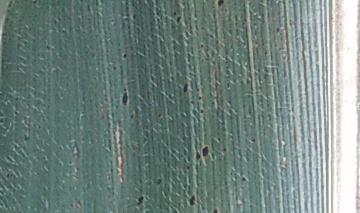tarspot: (188, 99, 198, 116), (201, 145, 210, 158), (187, 195, 196, 206), (182, 82, 189, 94), (122, 92, 128, 106), (51, 17, 60, 26), (136, 195, 144, 205), (194, 150, 201, 161), (175, 15, 182, 25), (225, 80, 231, 90), (155, 178, 162, 186), (45, 43, 51, 52), (131, 12, 137, 21), (60, 28, 67, 35), (249, 138, 257, 144), (216, 1, 224, 7), (275, 25, 280, 34), (240, 176, 247, 182), (111, 65, 117, 72), (129, 113, 134, 121), (122, 86, 128, 92), (211, 208, 218, 213), (199, 108, 204, 115), (185, 164, 190, 171), (157, 111, 162, 118), (31, 1, 39, 5), (122, 53, 127, 59), (222, 147, 227, 153), (172, 10, 177, 16), (198, 43, 204, 48), (197, 95, 202, 101), (215, 137, 221, 142), (195, 87, 200, 93)
